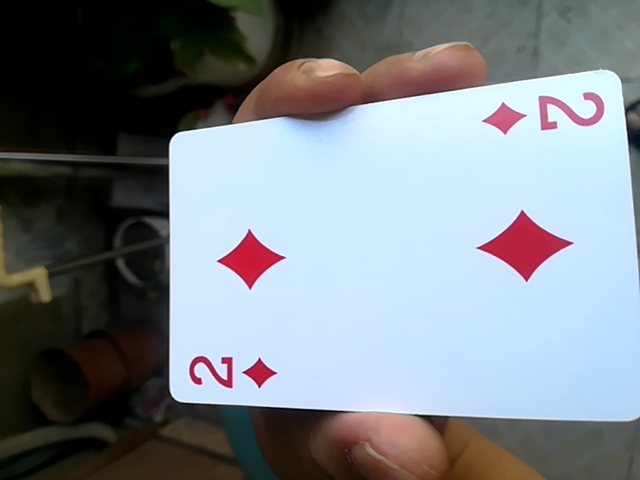fk 2: (146, 82, 634, 425)
